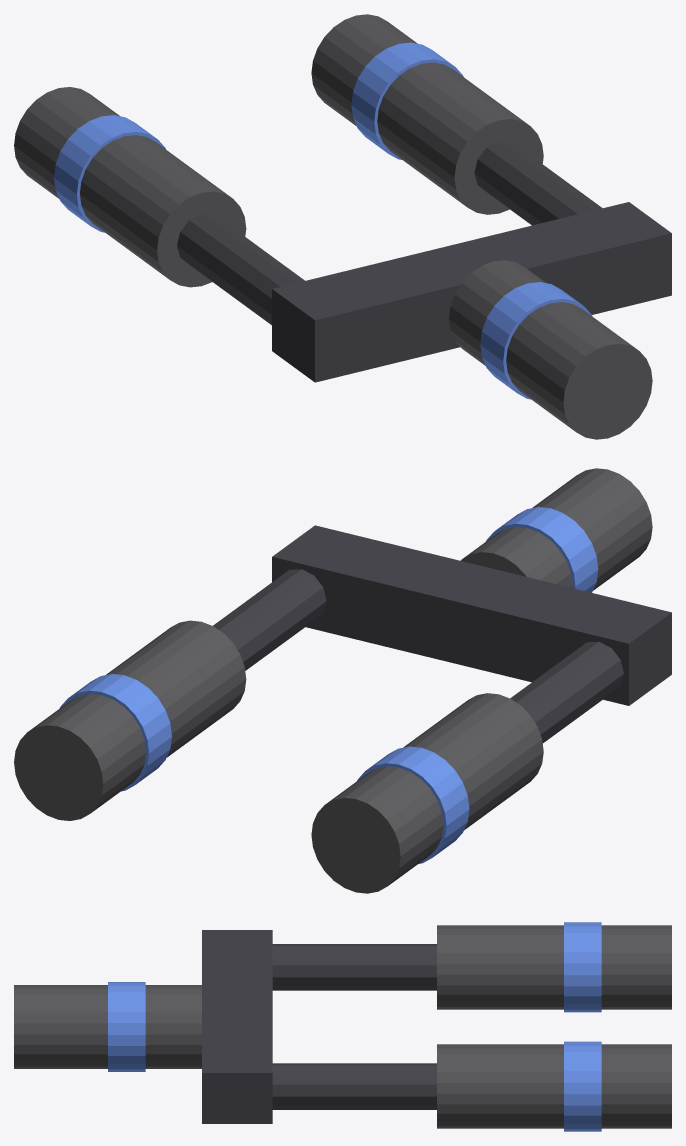
File: mc4-y-neg.glb
3 renders of one model, top to bottom at view 1: azimuth 30°, elevation 25°; view 2: azimuth 150°, elevation 25°; view 3: azimuth 270°, elevation 25°, orthographic. The views are drawn at different scales.
Parts seen in each view (by area): view 1: arms, ina_body, inb_body, out_body, out_band, ina_band, inb_band; view 2: arms, inb_body, ina_body, out_body, inb_band, ina_band, out_band; view 3: arms, ina_body, inb_body, out_body, ina_band, inb_band, out_band.
Part boxes in pixels (left/top/right/bottom): arms: left=177, top=141, right=671, bottom=382; ina_body: left=311, top=14, right=543, bottom=214; inb_body: left=14, top=87, right=246, bottom=287; out_body: left=449, top=260, right=652, bottom=439; out_band: left=480, top=282, right=592, bottom=399; ina_band: left=351, top=42, right=463, bottom=159; inb_band: left=54, top=115, right=165, bottom=232; arms: left=213, top=525, right=671, bottom=743; inb_body: left=311, top=693, right=543, bottom=893; ina_body: left=14, top=620, right=246, bottom=820; out_body: left=461, top=468, right=652, bottom=590; inb_band: left=357, top=746, right=469, bottom=863; ina_band: left=59, top=674, right=171, bottom=791; out_band: left=486, top=507, right=598, bottom=592; arms: left=202, top=930, right=436, bottom=1123; ina_body: left=437, top=1044, right=671, bottom=1128; inb_body: left=437, top=925, right=671, bottom=1009; out_body: left=14, top=985, right=201, bottom=1068; ina_band: left=564, top=1041, right=601, bottom=1131; inb_band: left=564, top=922, right=601, bottom=1012; out_band: left=108, top=982, right=145, bottom=1071.
Size of the model in its own units: 0.0792 by 0.0192 by 0.14.
